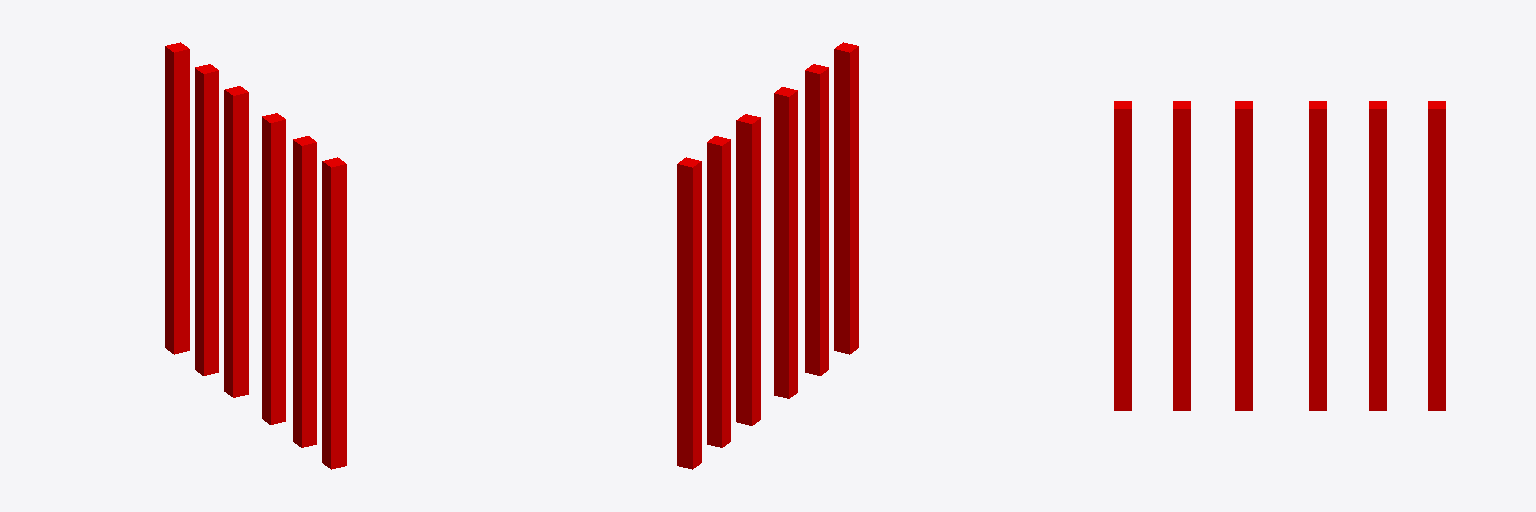
Rendered from upBarriers.obj.
3 views of the same model, side by side, from view 1: azimuth 30°, elevation 25°; view 2: azimuth 150°, elevation 25°; view 3: azimuth 270°, elevation 25° (orthographic).
Parts seen in each view (by area): view 1: Laser14, Laser11, Laser16, Laser12, Laser15, Laser13; view 2: Laser14, Laser11, Laser16, Laser12, Laser15, Laser13; view 3: Laser11, Laser12, Laser13, Laser14, Laser15, Laser16.
Boxes of the visible parts, x1=… form: Laser14: x1=224, y1=86, x2=248, y2=397; Laser11: x1=322, y1=157, x2=346, y2=469; Laser16: x1=165, y1=42, x2=189, y2=354; Laser12: x1=293, y1=136, x2=316, y2=447; Laser15: x1=195, y1=64, x2=218, y2=375; Laser13: x1=262, y1=113, x2=285, y2=424; Laser14: x1=736, y1=114, x2=760, y2=425; Laser11: x1=834, y1=42, x2=858, y2=354; Laser16: x1=677, y1=157, x2=701, y2=469; Laser12: x1=805, y1=64, x2=828, y2=375; Laser15: x1=707, y1=136, x2=730, y2=447; Laser13: x1=774, y1=87, x2=797, y2=398; Laser11: x1=1114, y1=101, x2=1131, y2=410; Laser12: x1=1173, y1=101, x2=1190, y2=410; Laser13: x1=1235, y1=101, x2=1252, y2=410; Laser14: x1=1309, y1=101, x2=1326, y2=410; Laser15: x1=1369, y1=101, x2=1386, y2=410; Laser16: x1=1428, y1=101, x2=1445, y2=410.
Size of the model in its own units: 1 by 18.41 by 18.36.